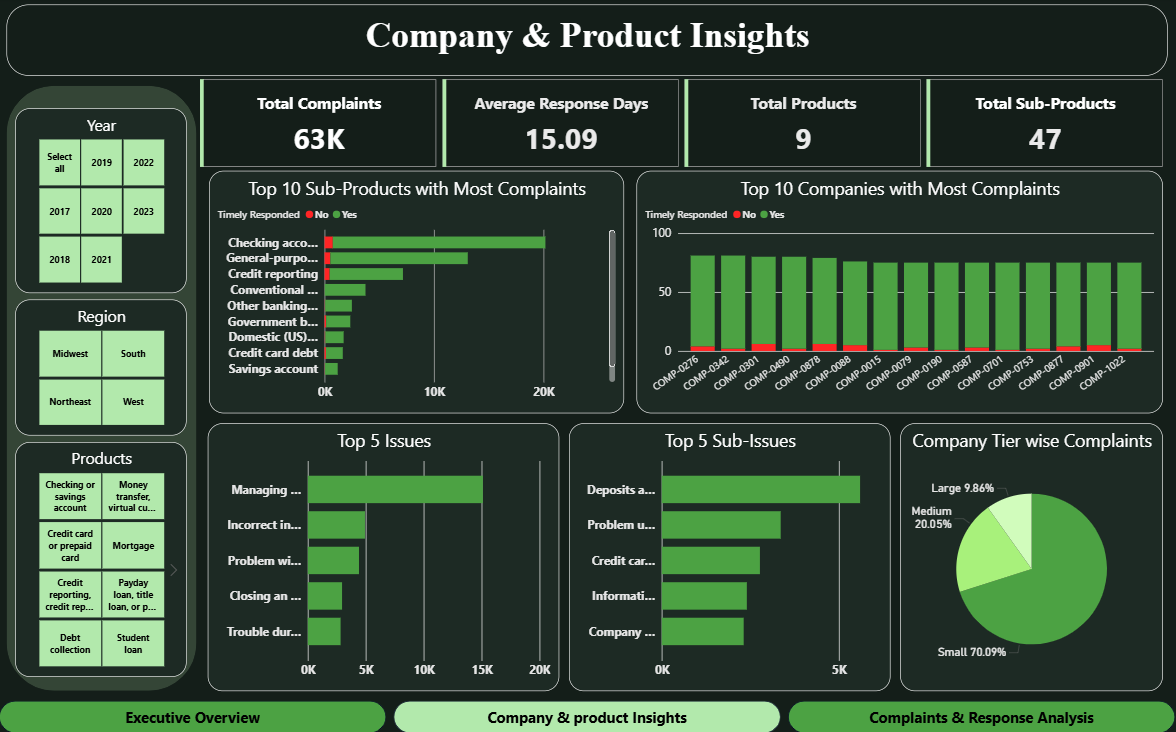

The page's visual inventory and layout, read from the dashboard file:
{"tool":"powerbi","page":{"name":"Company & product Insights","canvas":[1600,1000],"ordinal":1},"visuals":[{"type":"textbox","box":[10.2,10.2,1577.8,96.8],"z":0},{"type":"cardVisual","fields":{"Data":["cleaned_financial_complaints.Total Complaints","cleaned_financial_complaints.Average Response Time","cleaned_financial_complaints.Total Products","cleaned_financial_complaints.Total Sub-Products"]},"box":[268.3,107,1319.6,129.1],"z":1000},{"type":"pageNavigator","box":[0,956.2,1599.9,44.2],"z":2000},{"type":"shape","box":[10.2,120.6,258.2,822],"z":3000},{"type":"slicer","title":"Year","fields":{"Values":["cleaned_financial_complaints.Date submitted.Variation.Date Hierarchy.Year"]},"box":[21.5,150.5,233,250.9],"z":4000},{"type":"slicer","title":"Region","fields":{"Values":["cleaned_financial_complaints.Census_Region"]},"box":[21.5,410.4,233,184.6],"z":5000},{"type":"columnChart","title":"Top 10 Companies with Most Complaints","fields":{"Category":["cleaned_financial_complaints.Company_ID_1081"],"Series":["cleaned_financial_complaints.Timely response?"],"Y":["CountNonNull(cleaned_financial_complaints.Complaint ID)"]},"box":[866.2,236.1,715,329.5],"z":6000},{"type":"barChart","title":"Top 5 Issues","fields":{"Category":["cleaned_financial_complaints.Issue"],"Y":["CountNonNull(cleaned_financial_complaints.Complaint ID)"]},"box":[284.2,579,477.8,364.1],"z":7000},{"type":"barChart","title":"Top 5 Sub-Issues","fields":{"Category":["cleaned_financial_complaints.Sub-issue"],"Y":["CountNonNull(cleaned_financial_complaints.Complaint ID)"]},"box":[774.4,579,436.9,364.1],"z":8000},{"type":"slicer","title":"Products","fields":{"Values":["cleaned_financial_complaints.Product"]},"box":[21.5,603.9,233,319],"z":9000},{"type":"pieChart","title":"Company Tier wise Complaints","fields":{"Category":["cleaned_financial_complaints.Company_Size_Tier"],"Y":["CountNonNull(cleaned_financial_complaints.Complaint ID)"]},"box":[1223.8,579,357,364.1],"z":10000},{"type":"barChart","title":"Top 10 Sub-Products with Most Complaints","fields":{"Category":["cleaned_financial_complaints.Sub-product"],"Series":["cleaned_financial_complaints.Timely response?"],"Y":["CountNonNull(cleaned_financial_complaints.Complaint ID)"]},"box":[285.3,236.1,563.9,329.5],"z":11000}]}

Visuals, with their boxes in screenshot pixels (x1, y1, x2, y2), scaled from the page's 1600x1000 canvas onto the 1176x732 screenshot:
textbox: (left=7, top=7, right=1167, bottom=78)
cardVisual - cleaned_financial_complaints.Total Complaints x cleaned_financial_complaints.Average Response Time: (left=197, top=78, right=1167, bottom=173)
pageNavigator: (left=0, top=700, right=1175, bottom=731)
shape: (left=7, top=88, right=197, bottom=690)
"Year" slicer: (left=16, top=110, right=187, bottom=294)
"Region" slicer: (left=16, top=300, right=187, bottom=436)
"Top 10 Companies with Most Complaints" columnChart: (left=637, top=173, right=1162, bottom=414)
"Top 5 Issues" barChart: (left=209, top=424, right=560, bottom=690)
"Top 5 Sub-Issues" barChart: (left=569, top=424, right=890, bottom=690)
"Products" slicer: (left=16, top=442, right=187, bottom=676)
"Company Tier wise Complaints" pieChart: (left=899, top=424, right=1162, bottom=690)
"Top 10 Sub-Products with Most Complaints" barChart: (left=210, top=173, right=624, bottom=414)
